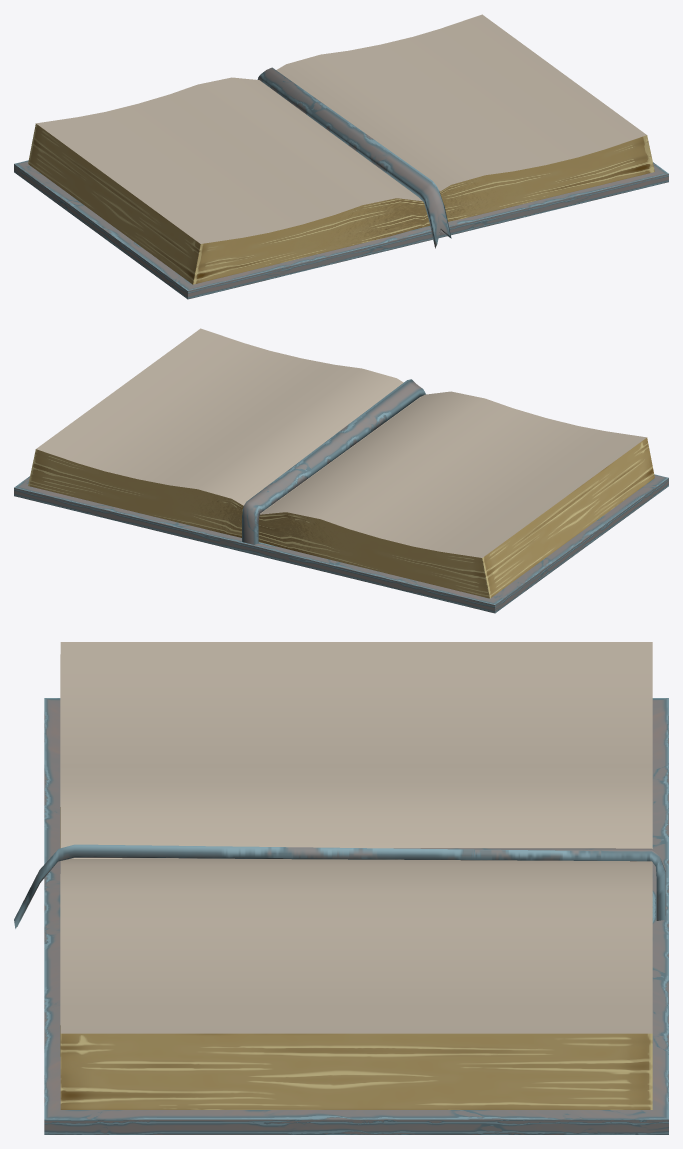
File: Book_Open.fbx
The picture shows the model from 3 angles, top to bottom: view 1: azimuth 30°, elevation 25°; view 2: azimuth 150°, elevation 25°; view 3: azimuth 270°, elevation 25°; orthographic projection. The views are drawn at different scales.
Parts seen in each view (by area): view 1: Book_Open; view 2: Book_Open; view 3: Book_Open.
Part boxes in pixels (x1=…): Book_Open: x1=14, y1=14, x2=668, y2=299; Book_Open: x1=14, y1=328, x2=668, y2=613; Book_Open: x1=14, y1=642, x2=668, y2=1134.
Size of the model in its own units: 45.88 by 4.81 by 30.11.
